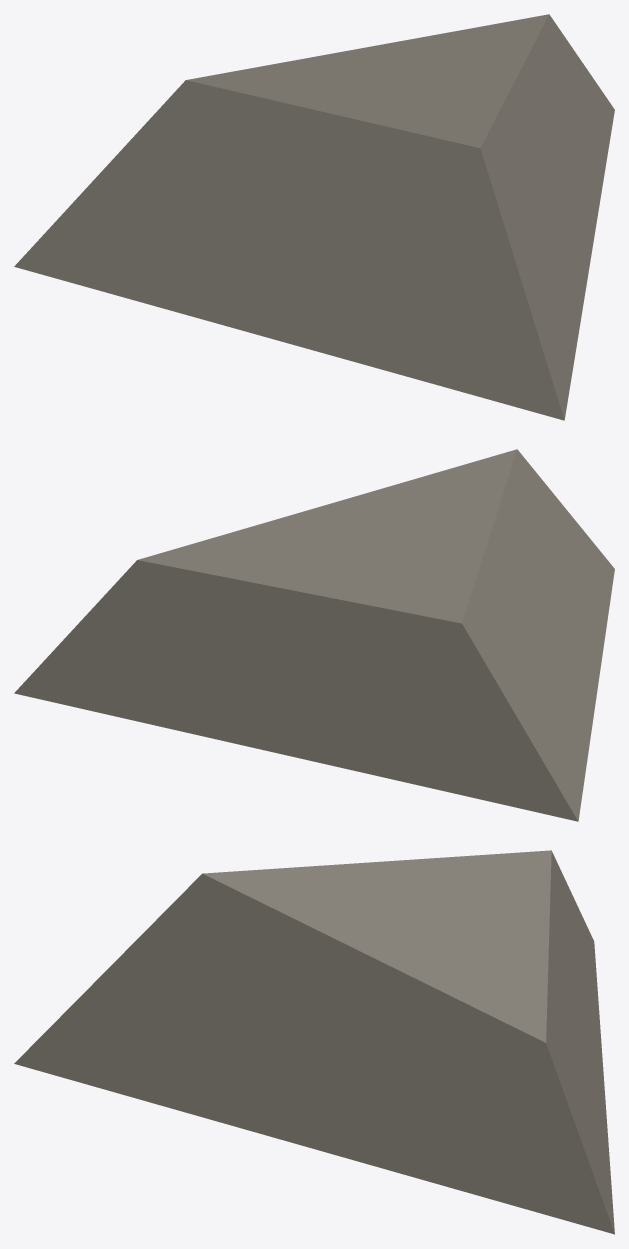
File: TB_D_Env_StoneD_A.FBX
The picture shows the model from 3 angles, top to bottom: view 1: azimuth 30°, elevation 25°; view 2: azimuth 150°, elevation 25°; view 3: azimuth 270°, elevation 25°; orthographic projection. The views are drawn at different scales.
Parts seen in each view (by area): view 1: TB_D_Env_StoneD_A; view 2: TB_D_Env_StoneD_A; view 3: TB_D_Env_StoneD_A.
Boxes of the visible parts, <box> form: TB_D_Env_StoneD_A: <box>14,14,614,420</box>; TB_D_Env_StoneD_A: <box>14,449,614,821</box>; TB_D_Env_StoneD_A: <box>14,850,614,1234</box>.
Bounding box in the file's own units: 0.3267 × 0.1018 × 0.2831.
